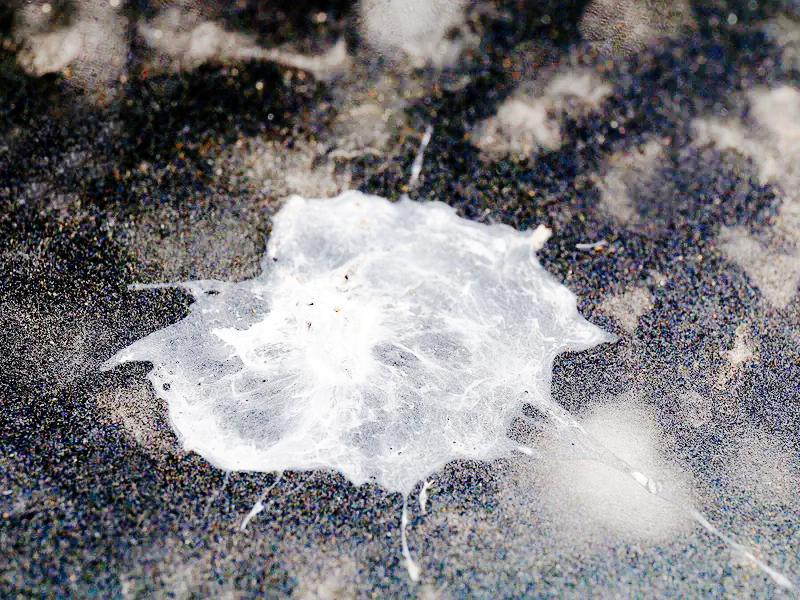Bird Poop: (111, 192, 612, 579), (682, 506, 791, 586), (628, 468, 661, 494)
